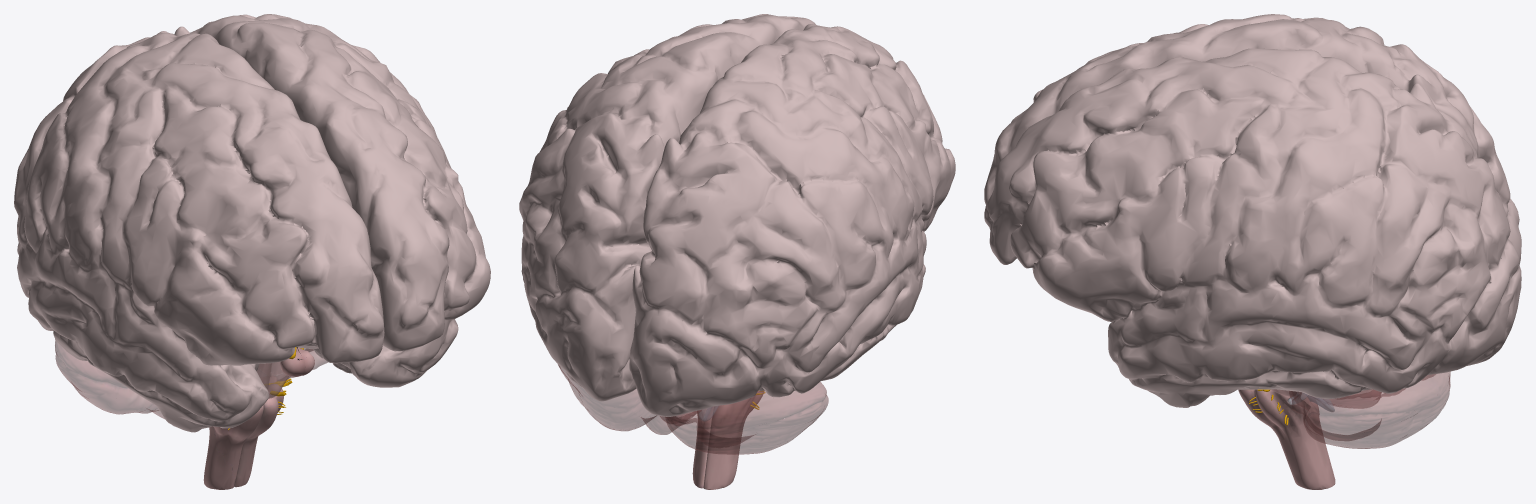
Rendered from limbic-ap.glb.
The picture shows the model from 3 angles, left to right: view 1: azimuth 30°, elevation 25°; view 2: azimuth 150°, elevation 25°; view 3: azimuth 270°, elevation 25°; orthographic projection. The views are drawn at different scales.
Parts seen in each view (by area): view 1: mesh17, mesh16, mesh60, mesh61, mesh20; view 2: mesh17, mesh16, mesh60, mesh46, mesh61; view 3: mesh17, mesh46, mesh61, mesh16.
Boxes of the visible parts, left/top/right/bottom form: mesh17: left=14, top=14, right=490, bottom=432; mesh16: left=55, top=340, right=164, bottom=418; mesh60: left=203, top=405, right=263, bottom=489; mesh61: left=234, top=376, right=283, bottom=487; mesh20: left=257, top=361, right=288, bottom=398; mesh17: left=519, top=14, right=955, bottom=416; mesh16: left=665, top=382, right=828, bottom=454; mesh60: left=703, top=391, right=763, bottom=489; mesh46: left=558, top=364, right=701, bottom=434; mesh61: left=692, top=407, right=713, bottom=488; mesh17: left=984, top=14, right=1521, bottom=407; mesh46: left=1289, top=372, right=1450, bottom=448; mesh61: left=1238, top=389, right=1335, bottom=489; mesh16: left=1326, top=374, right=1435, bottom=408.
Bounding box in the file's own units: 2.58 × 3 × 3.28.
47 materials, 38 textured.
